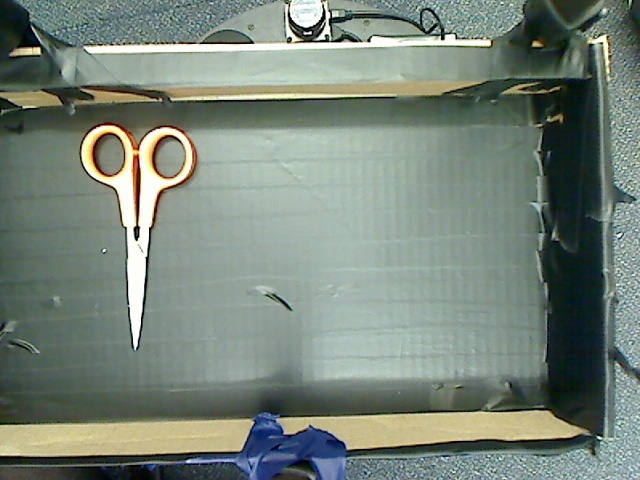scissors: (70, 114, 212, 360)
